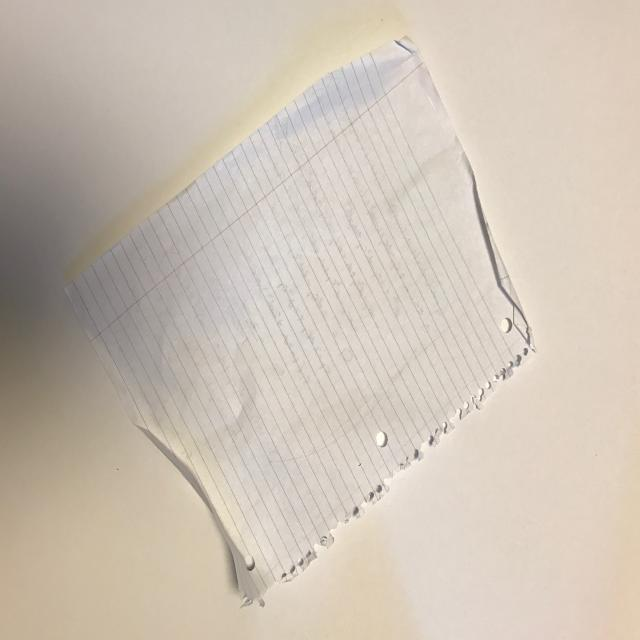paper: (65, 35, 538, 605)
